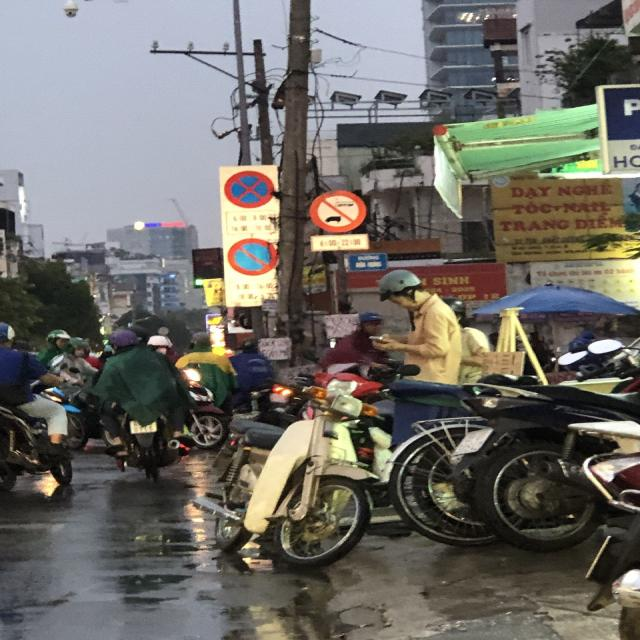Bien bao cam dung xe va do xe: (221, 169, 278, 211)
Bien bao cam xe oto khach va xe oto tai: (305, 187, 369, 234)
